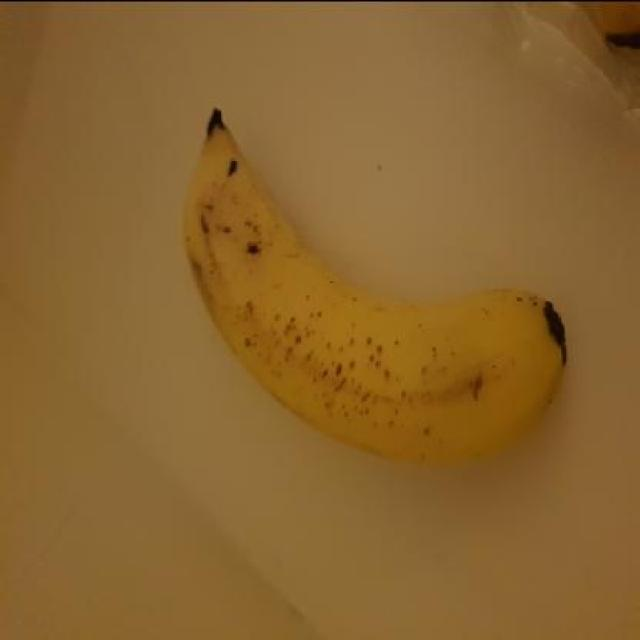Banana: (172, 96, 572, 481)
